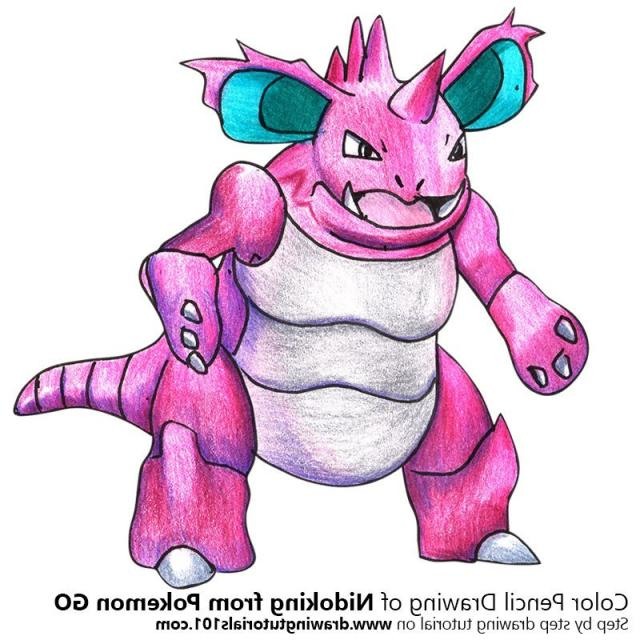Nidoking: (115, 17, 577, 583)
